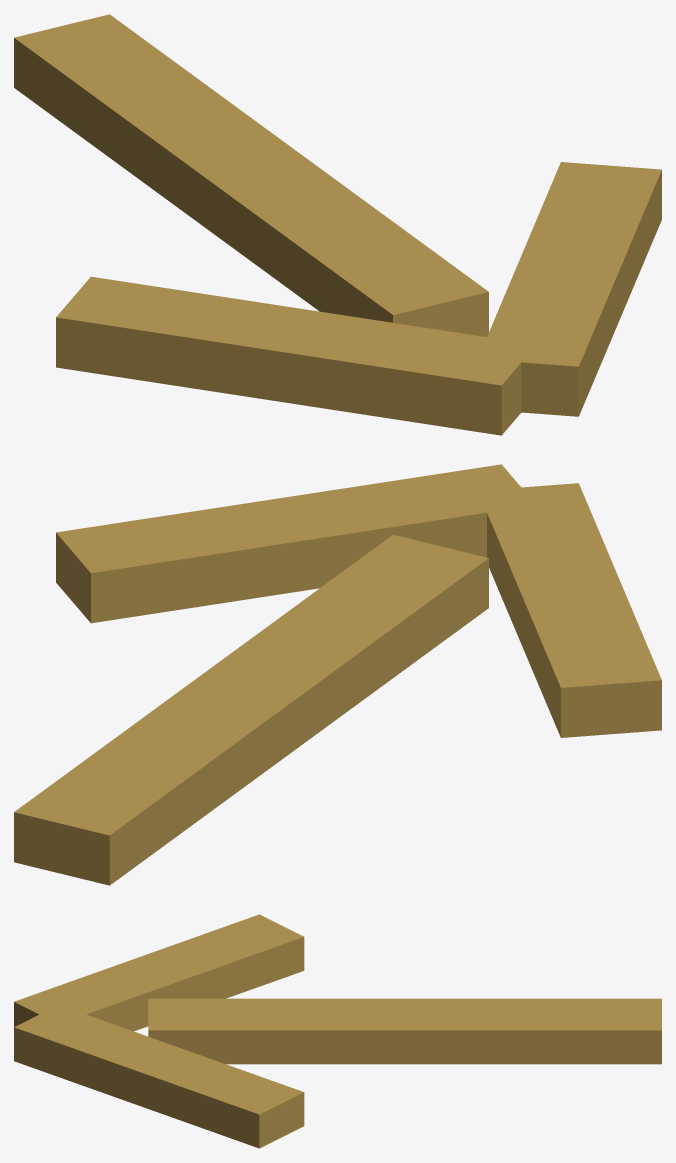
Rendered from rail-arrow-lod0.dabf80826fb3.glb.
3 renders of one model, top to bottom at view 1: azimuth 30°, elevation 25°; view 2: azimuth 150°, elevation 25°; view 3: azimuth 270°, elevation 25°, orthographic. The views are drawn at different scales.
Parts seen in each view (by area): view 1: body; view 2: body; view 3: body.
Boxes of the visible parts, box(x1,y1,x2,y2) form: body: box(14, 14, 661, 435); body: box(14, 464, 661, 885); body: box(14, 914, 661, 1148).
Size of the model in its own units: 0.443 by 0.035 by 0.6057.
